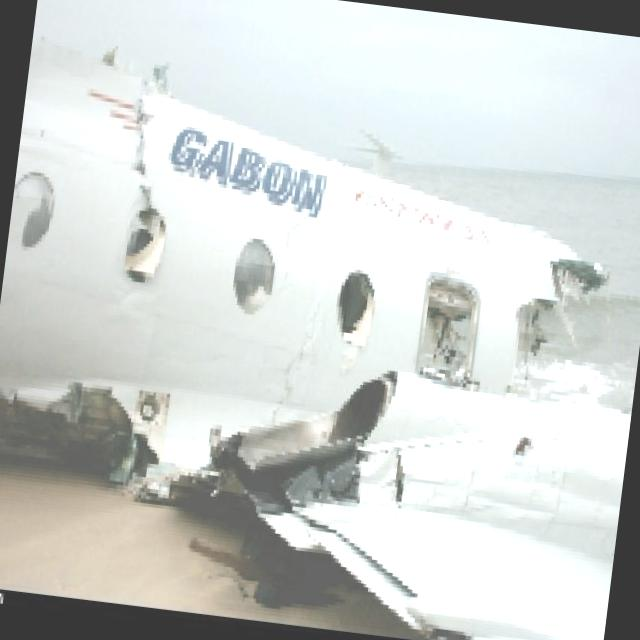crack: (265, 300, 322, 436), (120, 92, 166, 210), (276, 213, 312, 281), (386, 449, 411, 506)
